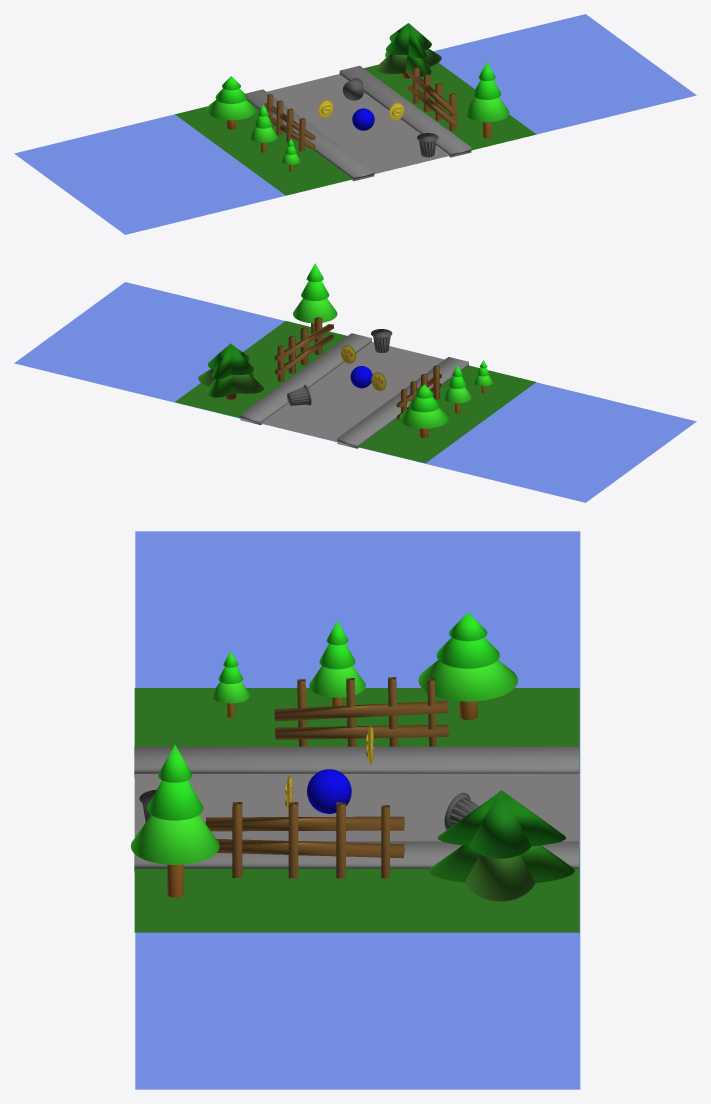
File: camino 04 catto.fbx
3 views of the same model, one above another, from view 1: azimuth 30°, elevation 25°; view 2: azimuth 150°, elevation 25°; view 3: azimuth 270°, elevation 25° (orthographic). The views are drawn at different scales.
Parts seen in each view (by area): view 1: calle, Cono.007, Cilindro.015, cerca 2 maderas 2.002, Cilindro.017, cerca 2 maderas 2.001, Cilindro.016, pelota, bote de basura, bote de basura.001; view 2: calle, Cono.007, cerca 2 maderas 2.002, Cilindro.015, Cilindro.017, cerca 2 maderas 2.001, Cilindro.016, pelota, bote de basura, bote de basura.001; view 3: calle, Cono.007, cerca 2 maderas 2.002, Cilindro.015, cerca 2 maderas 2.001, Cilindro.017, Cilindro.016, pelota, Cilindro.010.
Boxes of the visible parts, <box> form: calle: <box>14,14,696,234</box>; Cono.007: <box>376,23,441,78</box>; Cilindro.015: <box>465,62,509,138</box>; cerca 2 maderas 2.002: <box>407,67,458,131</box>; Cilindro.017: <box>206,76,256,129</box>; cerca 2 maderas 2.001: <box>264,94,315,151</box>; Cilindro.016: <box>249,104,277,152</box>; pelota: <box>352,108,374,130</box>; bote de basura: <box>417,133,438,157</box>; bote de basura.001: <box>343,78,363,100</box>; calle: <box>14,282,696,502</box>; Cono.007: <box>198,343,263,399</box>; cerca 2 maderas 2.002: <box>274,317,333,381</box>; Cilindro.015: <box>293,263,337,334</box>; Cilindro.017: <box>399,384,449,437</box>; cerca 2 maderas 2.001: <box>396,365,441,422</box>; Cilindro.016: <box>443,365,471,413</box>; pelota: <box>350,366,372,388</box>; bote de basura: <box>371,329,392,352</box>; bote de basura.001: <box>287,384,311,405</box>; calle: <box>134,531,580,1089</box>; Cono.007: <box>429,790,574,901</box>; cerca 2 maderas 2.002: <box>205,802,404,878</box>; Cilindro.015: <box>130,745,219,897</box>; cerca 2 maderas 2.001: <box>274,677,448,746</box>; Cilindro.017: <box>418,612,517,719</box>; Cilindro.016: <box>309,621,365,706</box>; pelota: <box>307,769,351,813</box>; Cilindro.010: <box>211,651,250,717</box>.
Size of the model in its own units: 5895 by 784 by 2007.
